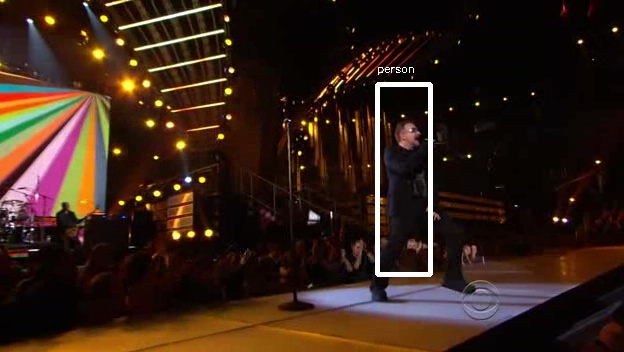person: (383, 121, 450, 240), (380, 121, 447, 240), (386, 121, 453, 240), (383, 118, 450, 237), (383, 124, 450, 243)
target_negative: (414, 243, 616, 332), (471, 124, 541, 223), (220, 30, 255, 167), (9, 212, 57, 288), (445, 73, 480, 86)
